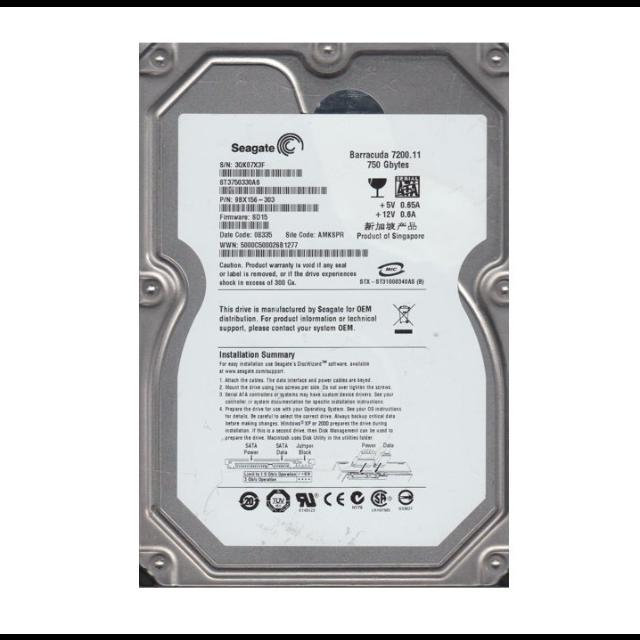HDD: (138, 42, 510, 590)
